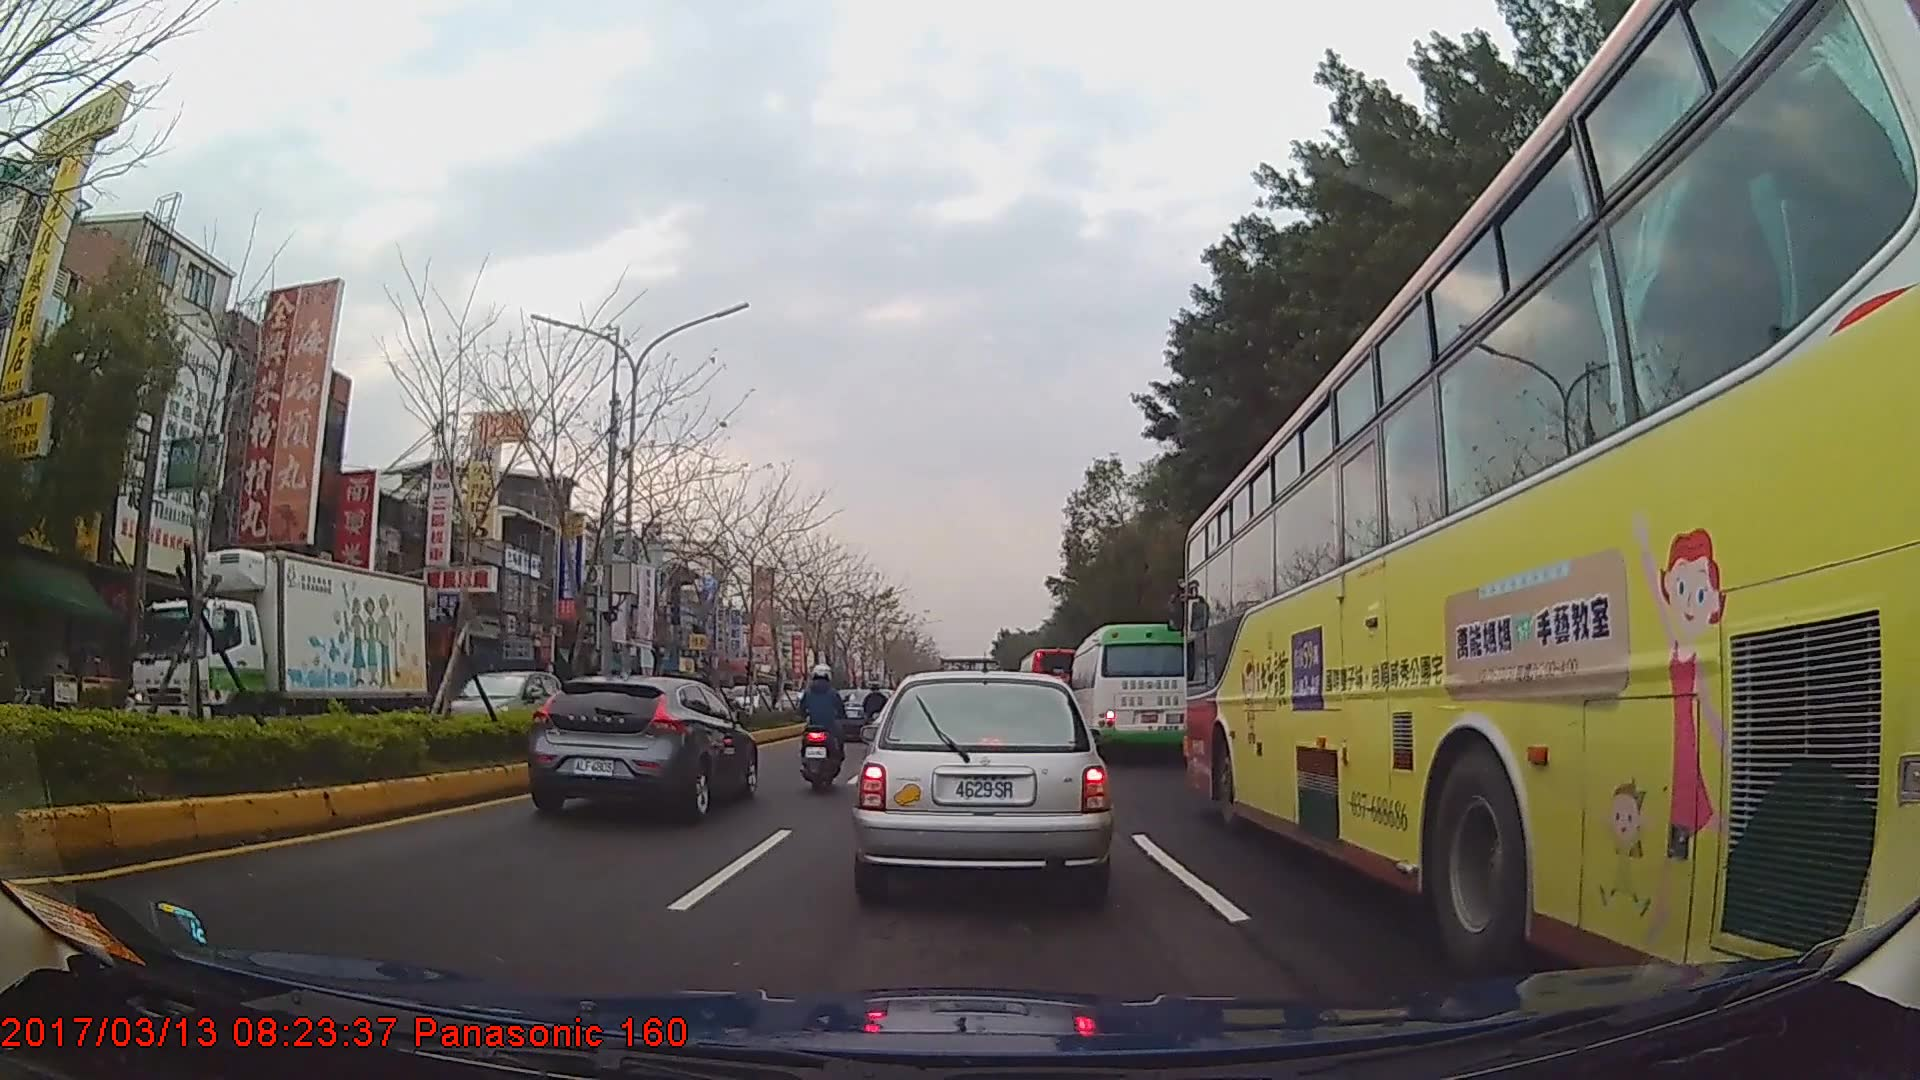rider: (800, 666, 850, 782), (1, 642, 33, 711), (863, 685, 889, 750)
vehicle: (1185, 0, 1920, 1023), (125, 544, 424, 750), (852, 666, 1108, 903), (527, 671, 758, 818), (1069, 621, 1191, 760), (433, 668, 566, 748), (1015, 644, 1083, 716)
